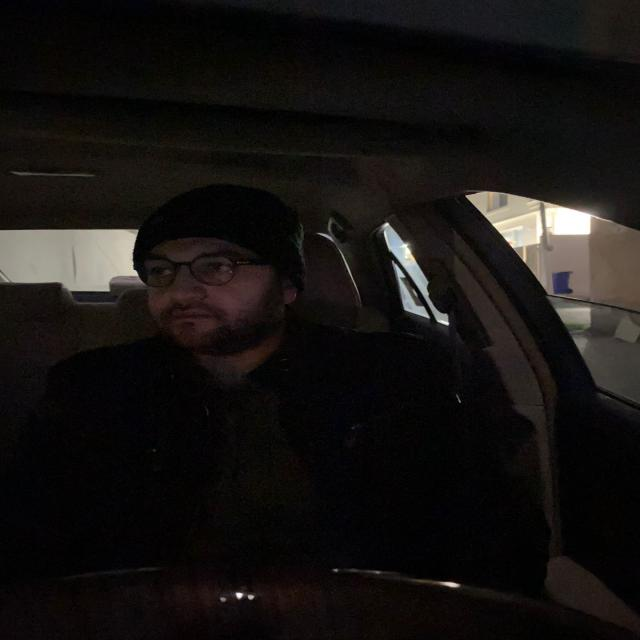person: (125, 182, 314, 354)
